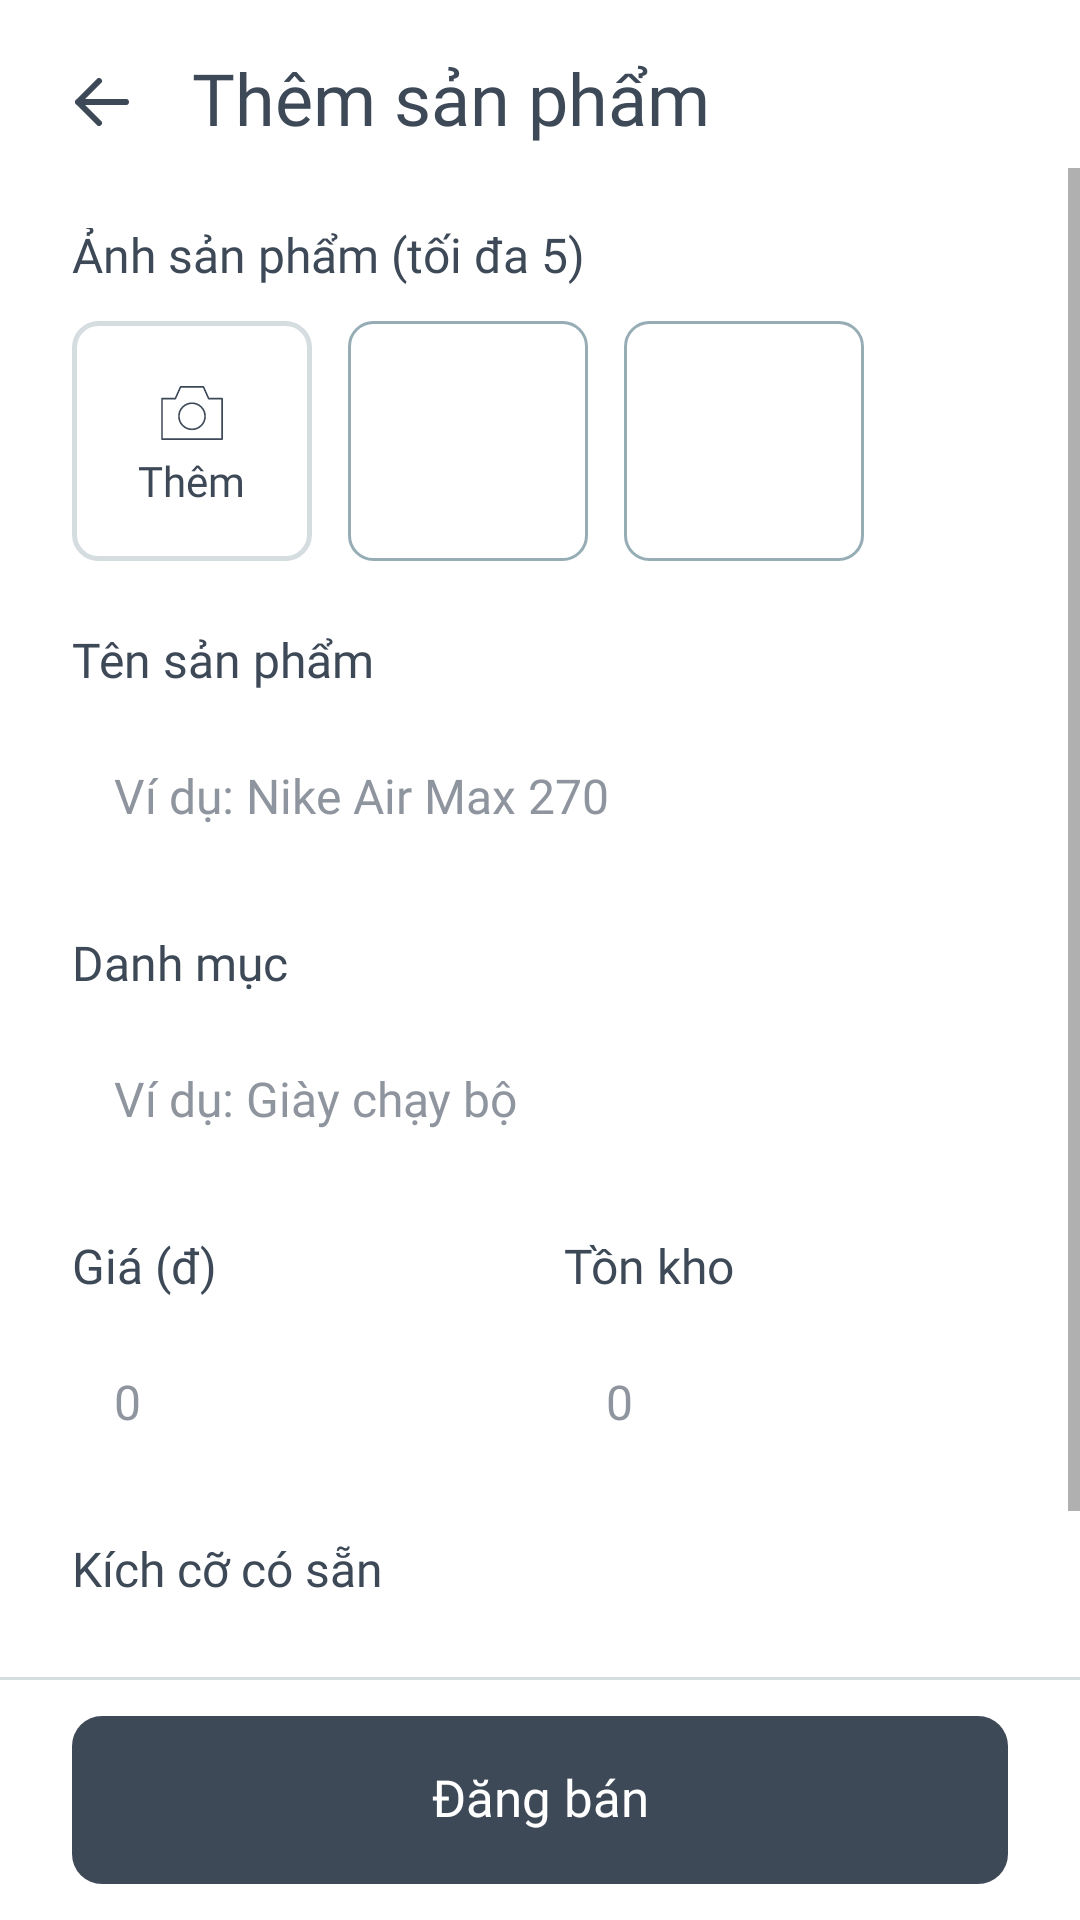

Named icons in this screenshot (1080*1920) and their centers, (x,y):
Quay lại: (102,102)
seller camera: (192,413)
